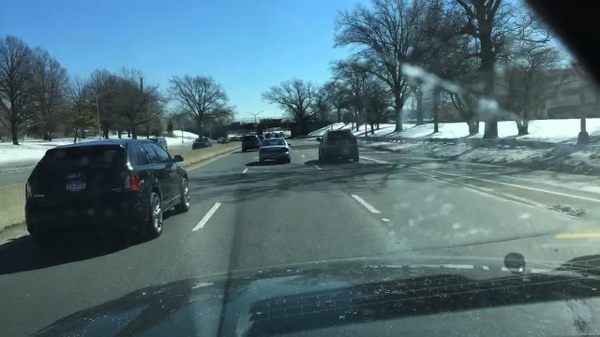car: (24, 139, 192, 249), (316, 129, 359, 164), (256, 138, 291, 165), (242, 134, 261, 152), (149, 135, 169, 152), (191, 137, 212, 151), (228, 121, 242, 126), (229, 136, 242, 141), (244, 122, 257, 127), (284, 119, 297, 124), (265, 132, 274, 139), (216, 136, 223, 144), (223, 139, 230, 146), (258, 134, 265, 141), (305, 119, 313, 123), (279, 132, 285, 137), (258, 121, 264, 126), (275, 133, 279, 139)
traffic sign: (570, 60, 588, 81)
truck: (265, 118, 285, 125)
